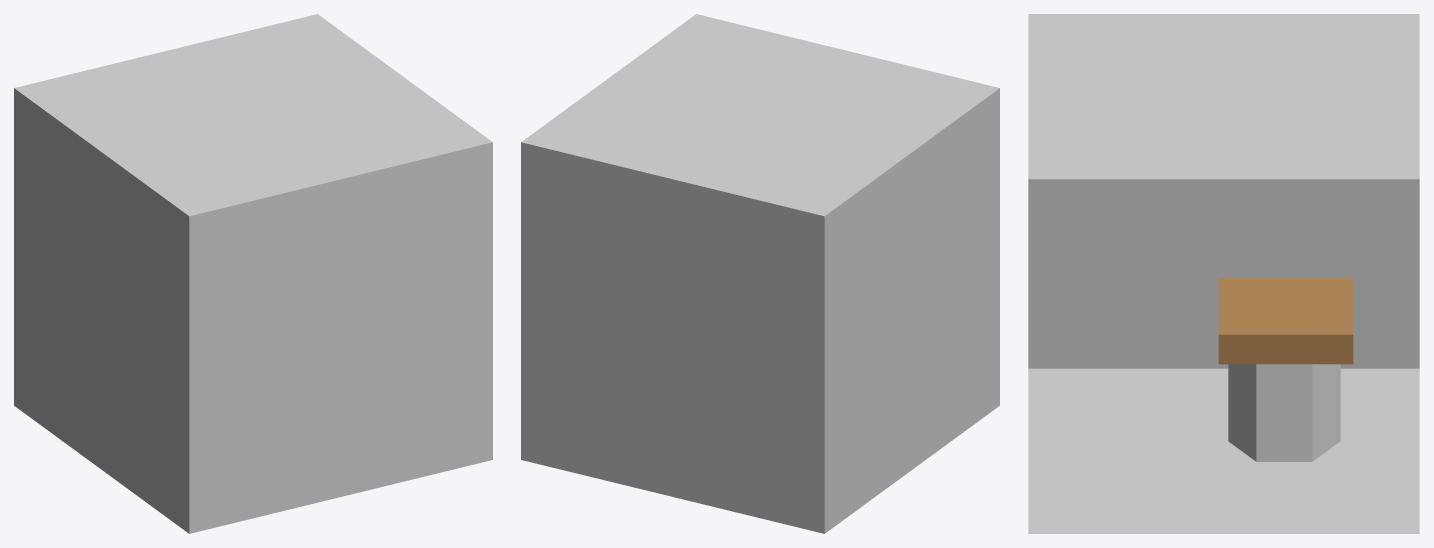
Rendered from proj_radiosidade.dae.
3 renders of one model, left to right at view 1: azimuth 30°, elevation 25°; view 2: azimuth 150°, elevation 25°; view 3: azimuth 270°, elevation 25°, orthographic. The views are drawn at different scales.
Visible parts, largest first — view 1: Caixa; view 2: Caixa; view 3: Caixa, Tampo, Pilar.
Boxes of the visible parts, box(x1,y1,x2,y2) form: Caixa: box(14, 14, 492, 533); Caixa: box(521, 14, 999, 533); Caixa: box(1028, 14, 1419, 533); Tampo: box(1218, 277, 1353, 364); Pilar: box(1228, 364, 1340, 461).
Bounding box in the file's own units: 6 × 6 × 6.
